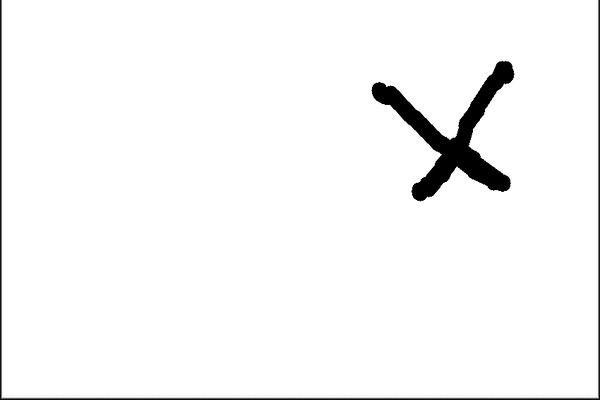X: (349, 48, 524, 207)
